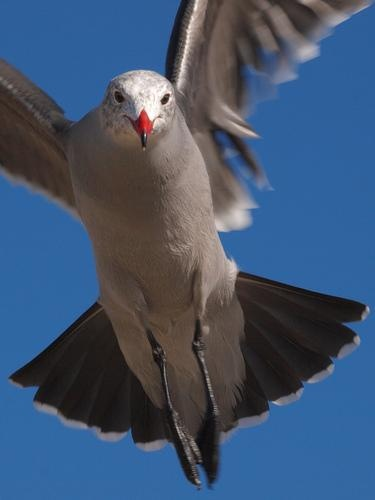bird: (3, 1, 366, 488)
